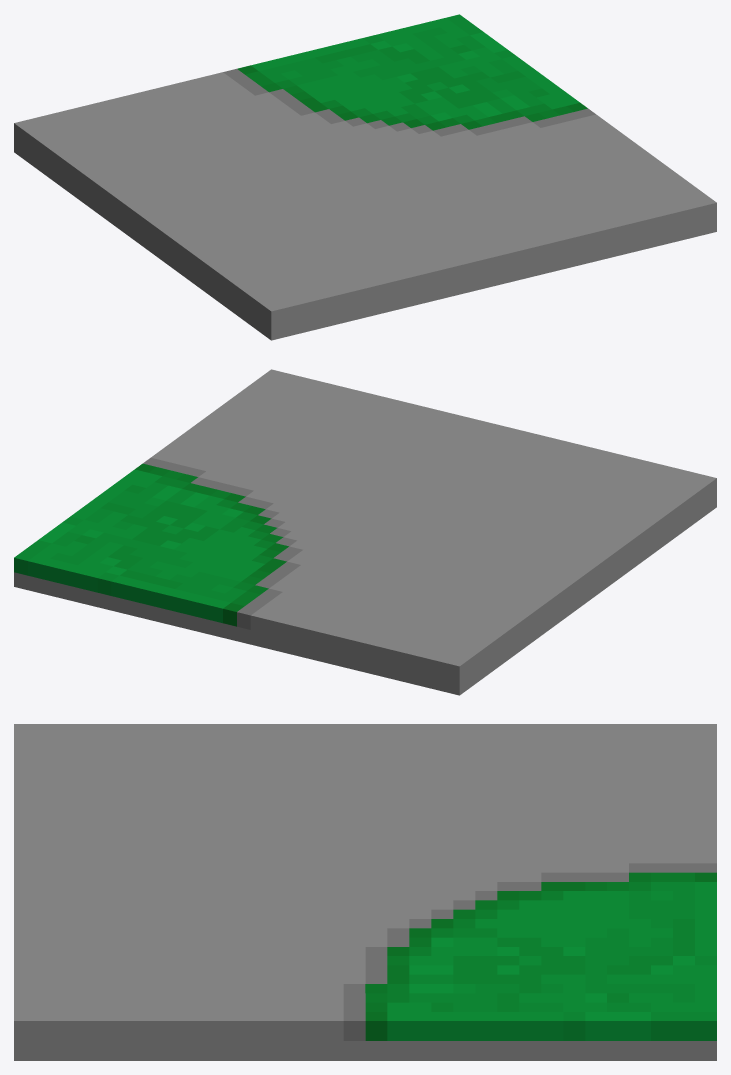
Rendered from forest-city-rounded-edge-outer-4.gltf.
3 renders of one model, top to bottom at view 1: azimuth 30°, elevation 25°; view 2: azimuth 150°, elevation 25°; view 3: azimuth 270°, elevation 25°, orthographic. The views are drawn at different scales.
Parts seen in each view (by area): view 1: forest-city-rounded-edge-outer-4; view 2: forest-city-rounded-edge-outer-4; view 3: forest-city-rounded-edge-outer-4.
Boxes of the visible parts, x1,y1,x2,y2 form: forest-city-rounded-edge-outer-4: (14,14,716,340); forest-city-rounded-edge-outer-4: (14,369,716,695); forest-city-rounded-edge-outer-4: (14,724,716,1060).
Bounding box in the file's own units: 3.2 × 0.2 × 3.2.
Materials: 1 (1 with a texture image).
